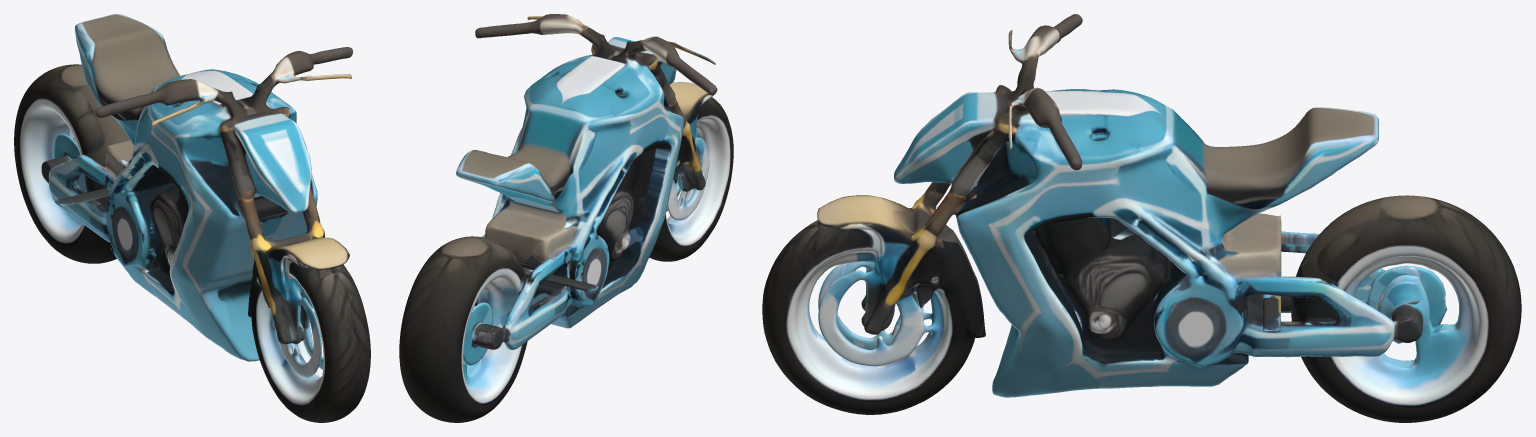
The model's file is tron_light_cycle.glb.
3 renders of one model, left to right at view 1: azimuth 30°, elevation 25°; view 2: azimuth 150°, elevation 25°; view 3: azimuth 270°, elevation 25°, orthographic. The views are drawn at different scales.
Visible parts, largest first — view 1: model; view 2: model; view 3: model.
Part boxes in pixels (<box>): model: <box>14,14,370,422</box>; model: <box>399,14,733,422</box>; model: <box>762,14,1521,422</box>.
Size of the model in its own units: 0.8797 by 0.9885 by 1.91.
Materials: 1 (1 with a texture image).
